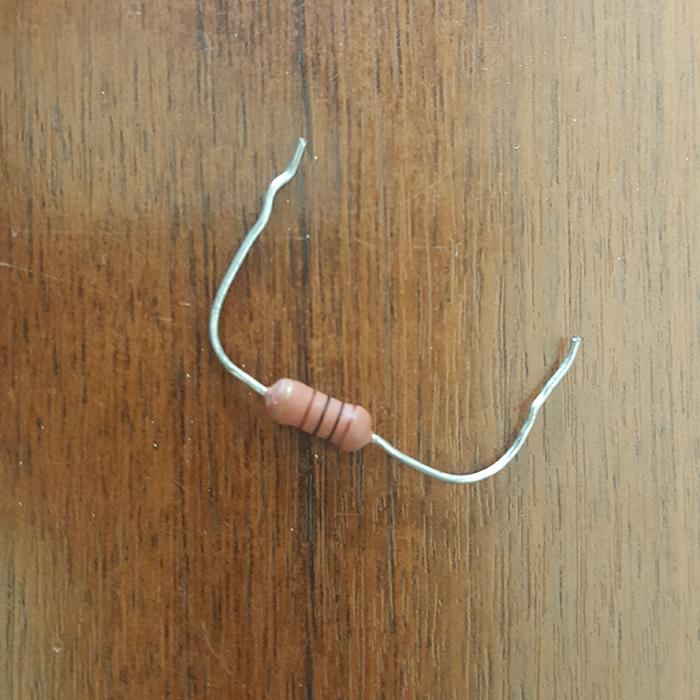resistor: (262, 376, 371, 452)
